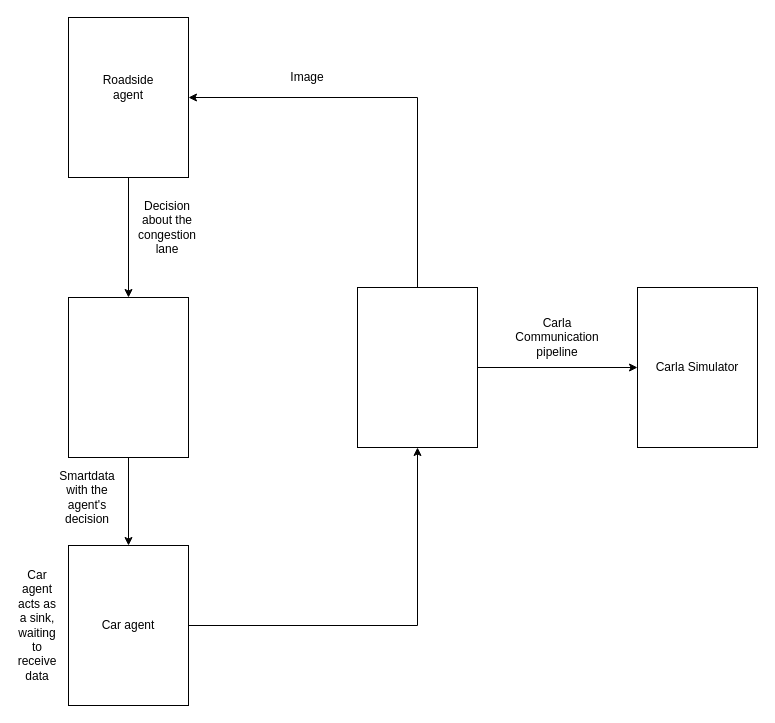
The diagram is 775 pixels wide and 723 high, and some of its shapes have lost their labels. The centre of each missing label's shape, as x and y in pixels:
"Python API" belongs at pixel 417 367.
"SmartData on Linux" belongs at pixel 128 377.
